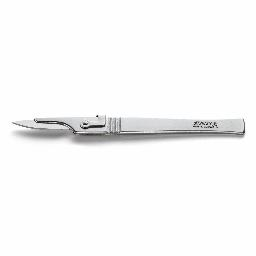scalpel: (11, 112, 247, 138)
